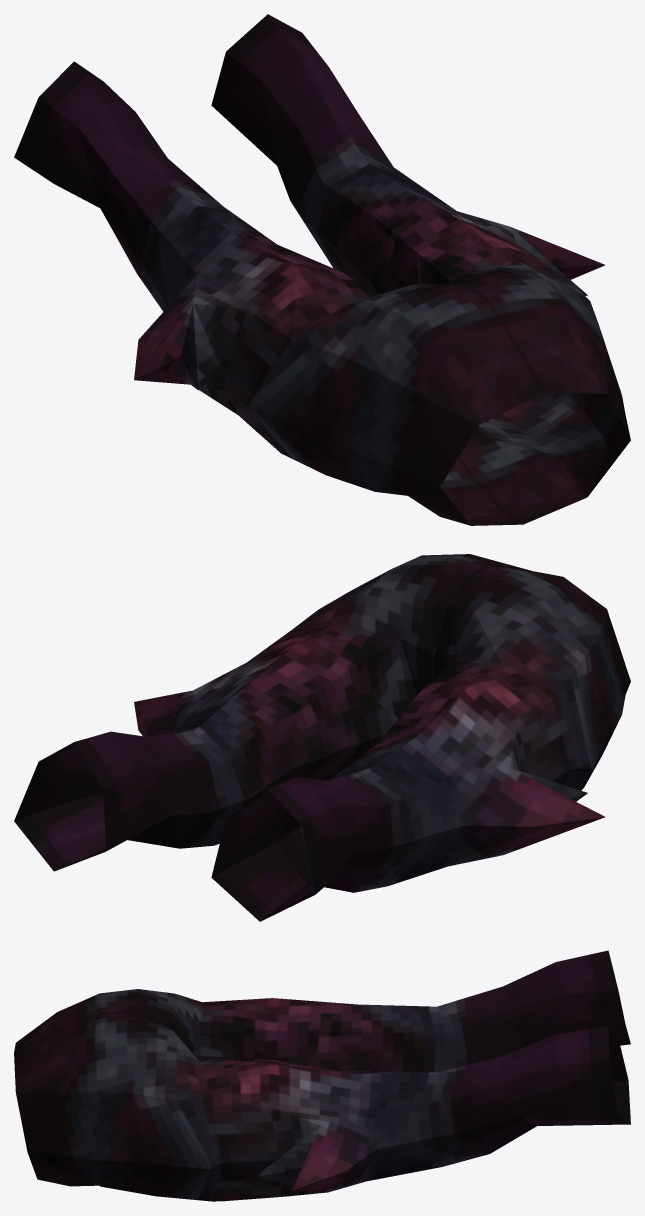
File: robber_trousers_female_320006.obj
The picture shows the model from 3 angles, top to bottom: view 1: azimuth 30°, elevation 25°; view 2: azimuth 150°, elevation 25°; view 3: azimuth 270°, elevation 25°; orthographic projection. The views are drawn at different scales.
Visible parts, largest first — view 1: robber_trousers_female_320006; view 2: robber_trousers_female_320006; view 3: robber_trousers_female_320006.
Part boxes in pixels (x1,y1,x2,y2): robber_trousers_female_320006: (14,14,630,525); robber_trousers_female_320006: (14,554,630,921); robber_trousers_female_320006: (14,950,630,1201).
Bounding box in the file's own units: 24.73 × 11.49 × 35.13.
1 material, 1 textured.
